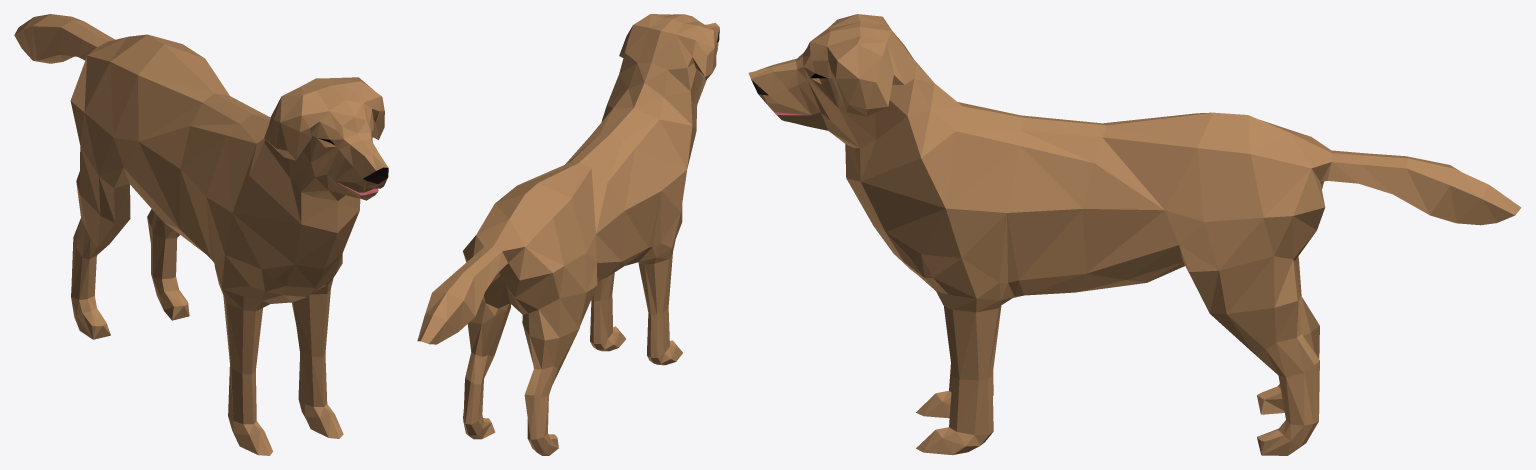
File: goldenretreiver_colorMap.obj
3 views of the same model, side by side, from view 1: azimuth 30°, elevation 25°; view 2: azimuth 150°, elevation 25°; view 3: azimuth 270°, elevation 25° (orthographic). The views are drawn at different scales.
Size of the model in its own units: 27.89 by 81.34 by 141.
